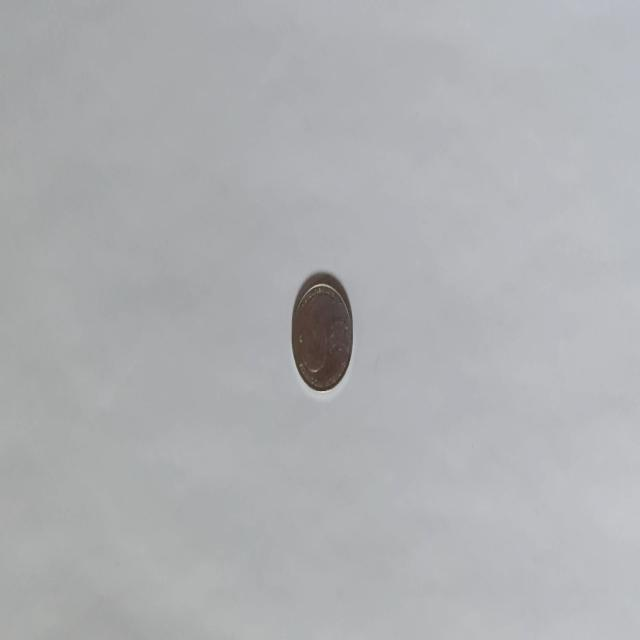seribu rupiah koin: (290, 271, 353, 393)
